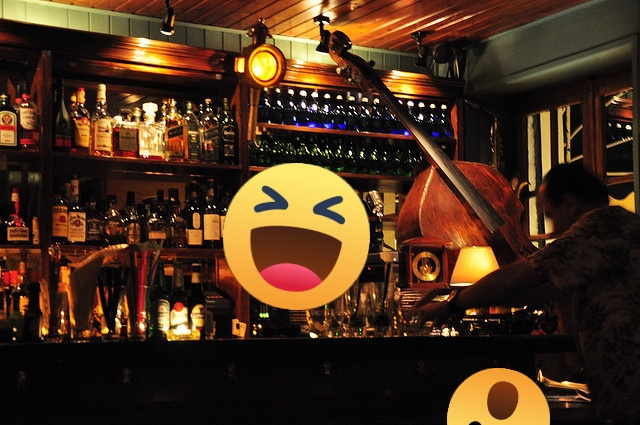haha: (223, 163, 370, 310)
wow: (447, 368, 550, 425)
